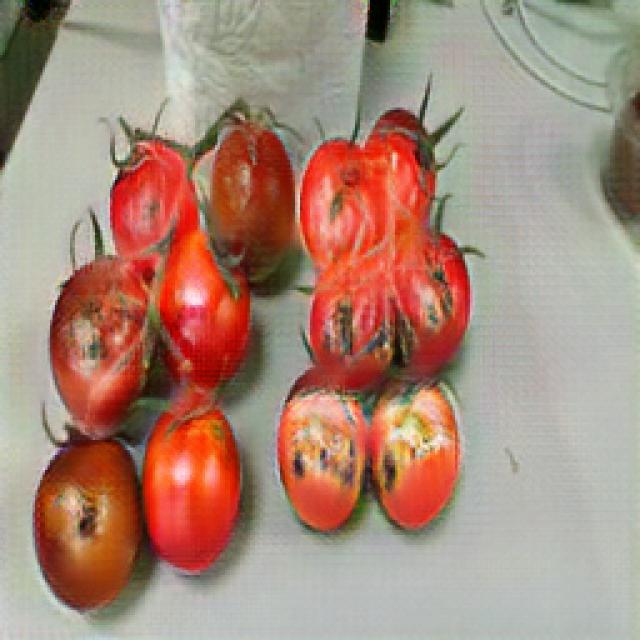overripe tomato: (130, 402, 247, 576), (34, 440, 144, 613), (46, 255, 152, 420), (364, 374, 464, 535), (270, 386, 366, 528), (384, 234, 478, 373), (107, 142, 194, 254), (316, 263, 392, 376)
